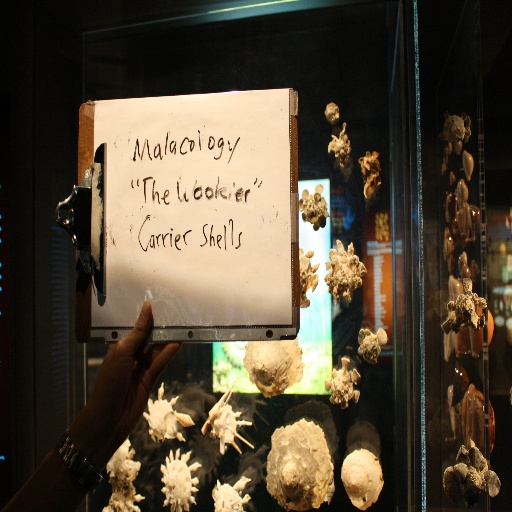hand: (58, 302, 162, 463)
